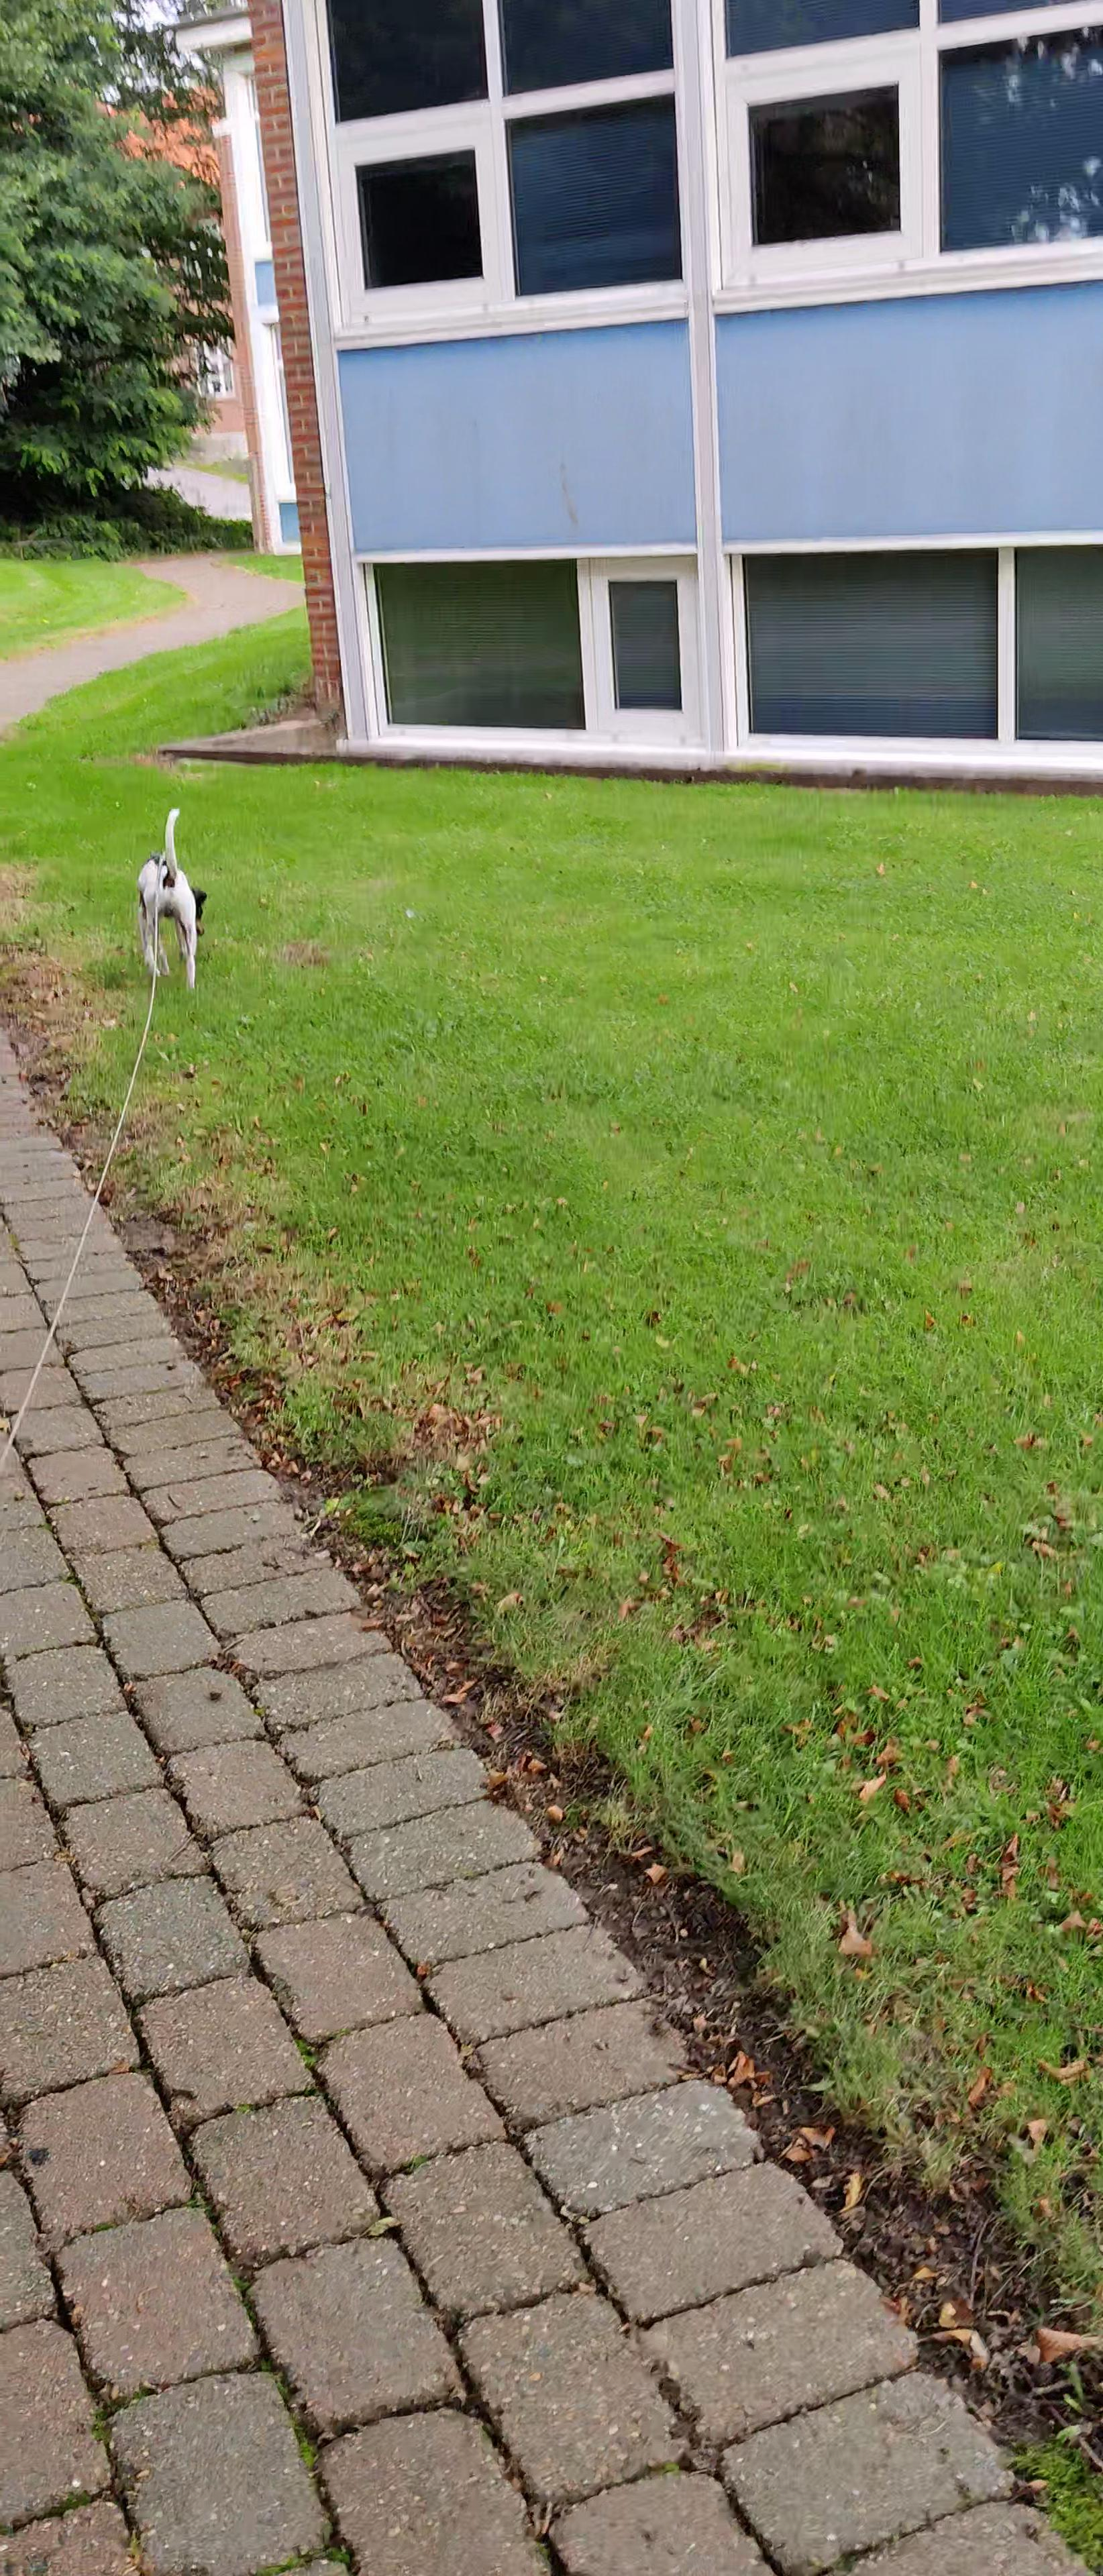Dog: (123, 802, 224, 997)
